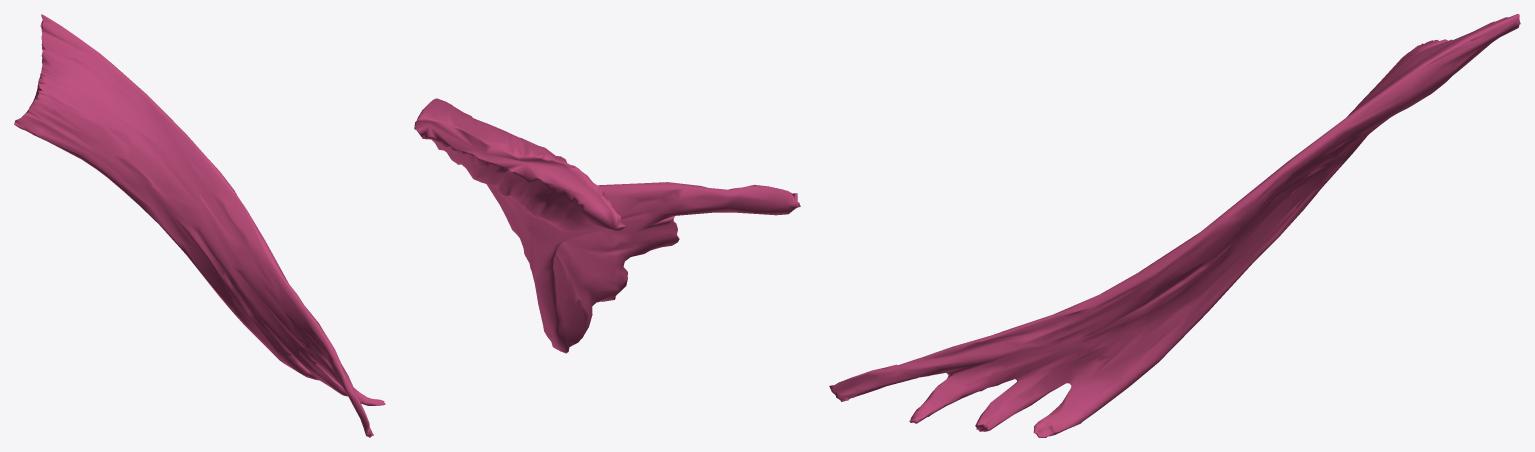
The picture shows the model from 3 angles, left to right: view 1: azimuth 30°, elevation 25°; view 2: azimuth 150°, elevation 25°; view 3: azimuth 270°, elevation 25°; orthographic projection. The views are drawn at different scales.
Visible parts, largest first — view 1: 右侧肩胛提肌; view 2: 右侧肩胛提肌; view 3: 右侧肩胛提肌.
Boxes of the visible parts, box(x1,y1,x2,y2) form: 右侧肩胛提肌: box(14, 14, 385, 437); 右侧肩胛提肌: box(414, 98, 800, 353); 右侧肩胛提肌: box(829, 14, 1520, 437).
Bounding box in the file's own units: 0.0905 × 0.1265 × 0.2252.
